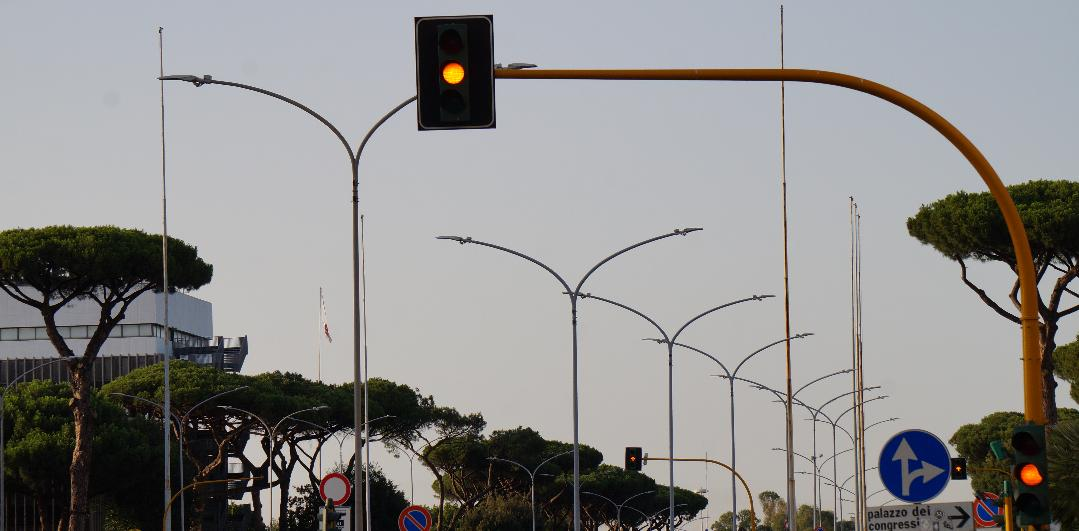yellow_light: (414, 15, 495, 132), (1012, 423, 1052, 525), (950, 458, 967, 481), (625, 447, 642, 469)
